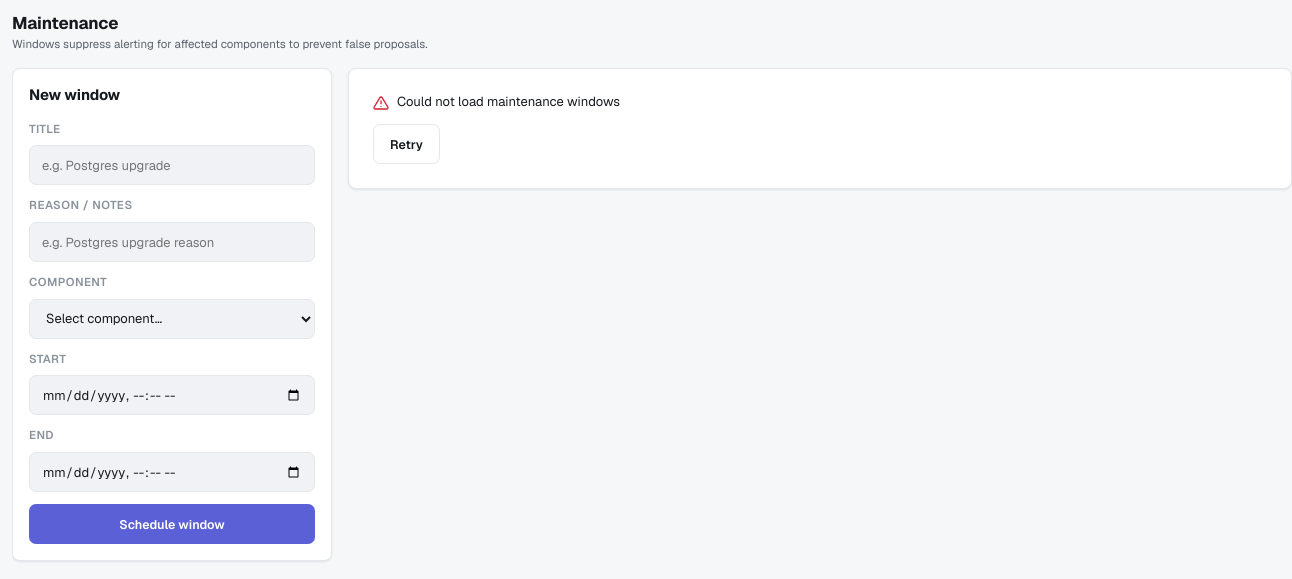
MaintenancePage › shows an error state on load failure, then recovers via retry (AC4)
The image size is (1292, 579).
Expected: the message reads "Could not load maintenance windows", 397,93 -> 620,110
Click the button "Retry".
click(406, 144)  # box 373,124 -> 440,164
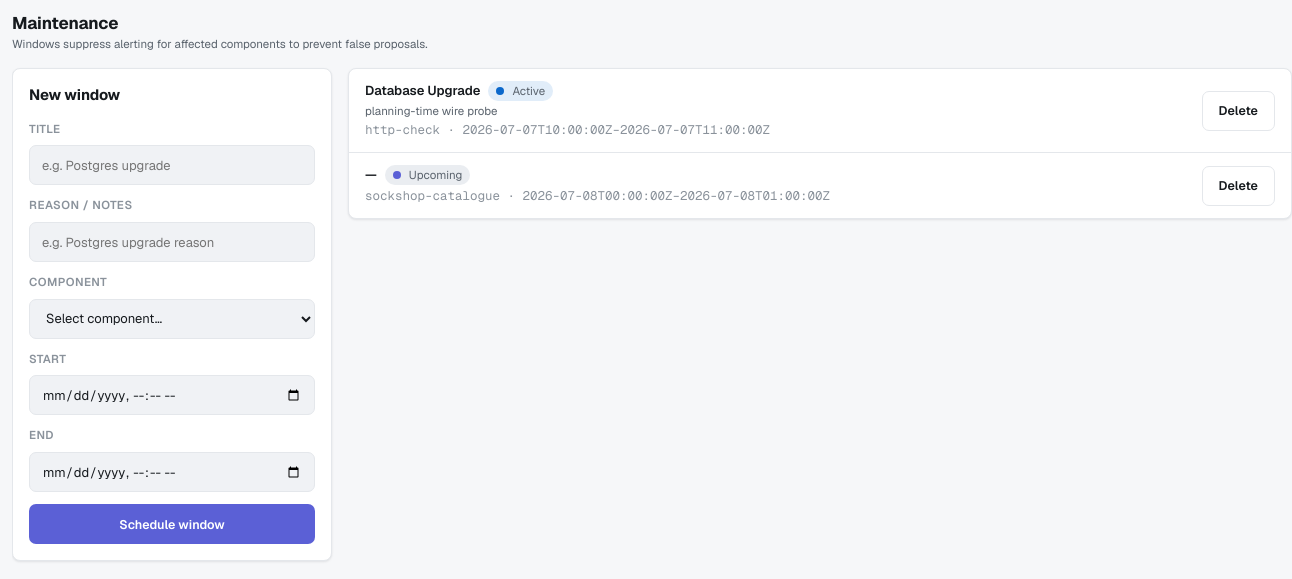
Result: the text "http-check" is shown at 365,121 -> 440,138
